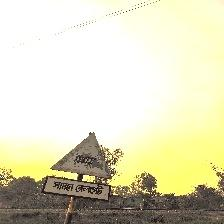Rail-crossing: (47, 132, 113, 203)
